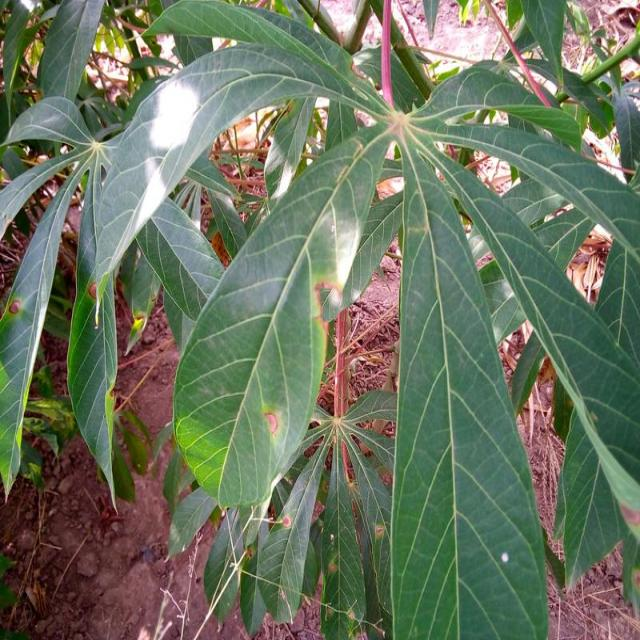cassava leaf: (1, 1, 638, 637), (170, 120, 393, 510), (388, 140, 550, 638)
